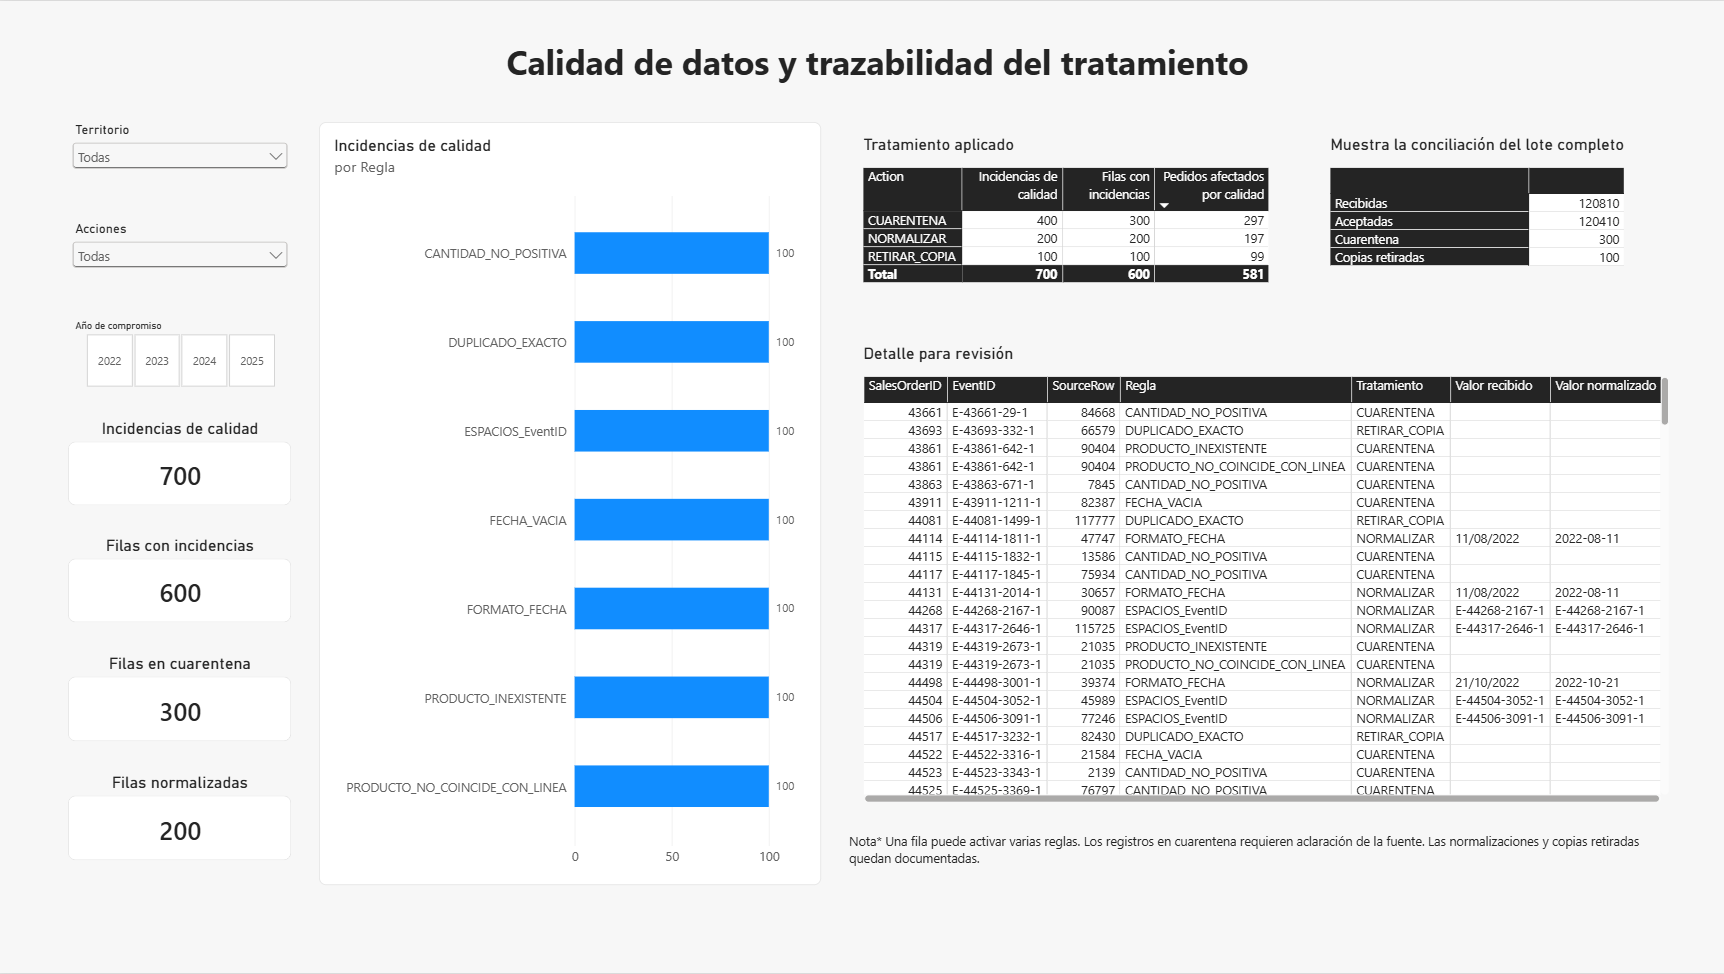

This screenshot's page, from the dashboard's own definition file:
{"tool":"powerbi","page":{"name":"Calidad","canvas":[1920,1080],"ordinal":3},"visuals":[{"type":"textbox","box":[272.2,42.2,1410,54.4],"z":0},{"type":"slicer","fields":{"Values":["DimTerritorio.TerritoryName"]},"box":[77.3,134.5,248.9,75.6],"z":1000},{"type":"slicer","fields":{"Values":["DimFechaCompromiso.Anio"]},"box":[77.8,354.1,248.9,75.6],"z":2000},{"type":"slicer","fields":{"Values":["FactCalidad.Action"]},"box":[77.3,244.3,248.9,75.6],"z":3000},{"type":"cardVisual","title":"Incidencias de calidad","fields":{"Data":["FactCalidad.Incidencias de calidad"]},"box":[77.8,463.9,248.9,96.7],"z":4000},{"type":"cardVisual","title":"Filas con incidencias","fields":{"Data":["FactCalidad.Filas con incidencias"]},"box":[77.8,594.8,248.9,96.7],"z":5000},{"type":"cardVisual","title":"Filas en cuarentena","fields":{"Data":["FactCalidad.Filas en cuarentena"]},"box":[77.8,725.8,248.9,97.8],"z":6000},{"type":"cardVisual","title":"Filas normalizadas","fields":{"Data":["FactCalidad.Filas normalizadas"]},"box":[77.8,857.8,248.9,97.8],"z":7000},{"type":"clusteredBarChart","fields":{"Category":["FactCalidad.Rule"],"Y":["FactCalidad.Incidencias de calidad"]},"box":[356.7,134.4,557.8,847.8],"z":8000},{"type":"pivotTable","title":"Tratamiento aplicado","fields":{"Rows":["FactCalidad.Action"],"Values":["FactCalidad.Incidencias de calidad","FactCalidad.Filas con incidencias","FactCalidad.Pedidos afectados por calidad"]},"box":[945.6,134.4,486.7,214.4],"z":9000},{"type":"tableEx","title":"Detalle para revisión","fields":{"Values":["FactCalidad.SalesOrderID","FactCalidad.EventID","FactCalidad.SourceRow","FactCalidad.Rule","FactCalidad.Action","FactCalidad.BeforeValue","FactCalidad.AfterValue"]},"box":[945.6,366.7,926.7,540],"z":10000},{"type":"textbox","box":[945.6,923.3,926.7,58.9],"z":11000},{"type":"pivotTable","title":"Muestra la conciliación del lote completo","fields":{"Values":["Sum(ControlCalidadCarga.InputRows)","Sum(ControlCalidadCarga.AcceptedRows)","Sum(ControlCalidadCarga.QuarantineRows)","Sum(ControlCalidadCarga.RemovedCopies)"]},"box":[1464.3,134.5,407.8,214.4],"z":12000}]}

Visuals, with their boxes in screenshot pixels (x1, y1, x2, y2), scaled from the page's 1920x1080 canvas onto the 1724x974 screenshot:
textbox: [244, 38, 1510, 87]
slicer - DimTerritorio.TerritoryName: [69, 121, 293, 189]
slicer - DimFechaCompromiso.Anio: [70, 319, 293, 388]
slicer - FactCalidad.Action: [69, 220, 293, 289]
"Incidencias de calidad" cardVisual: [70, 418, 293, 506]
"Filas con incidencias" cardVisual: [70, 536, 293, 624]
"Filas en cuarentena" cardVisual: [70, 655, 293, 743]
"Filas normalizadas" cardVisual: [70, 774, 293, 862]
clusteredBarChart - FactCalidad.Rule x FactCalidad.Incidencias de calidad: [320, 121, 821, 886]
"Tratamiento aplicado" pivotTable: [849, 121, 1286, 315]
"Detalle para revisión" tableEx: [849, 331, 1681, 818]
textbox: [849, 833, 1681, 886]
"Muestra la conciliación del lote completo" pivotTable: [1315, 121, 1681, 315]
